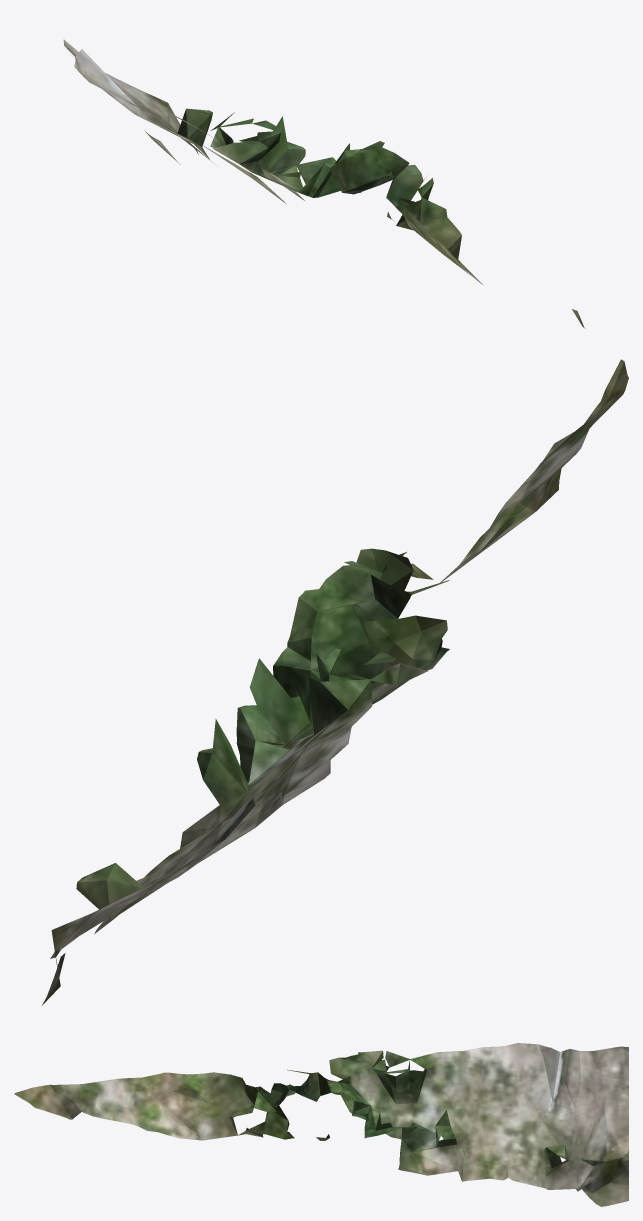
3 views of the same model, one above another, from view 1: azimuth 30°, elevation 25°; view 2: azimuth 150°, elevation 25°; view 3: azimuth 270°, elevation 25° (orthographic). The views are drawn at different scales.
Size of the model in its own units: 4.47 by 4.62 by 22.79.
Materials: 1 (1 with a texture image).
